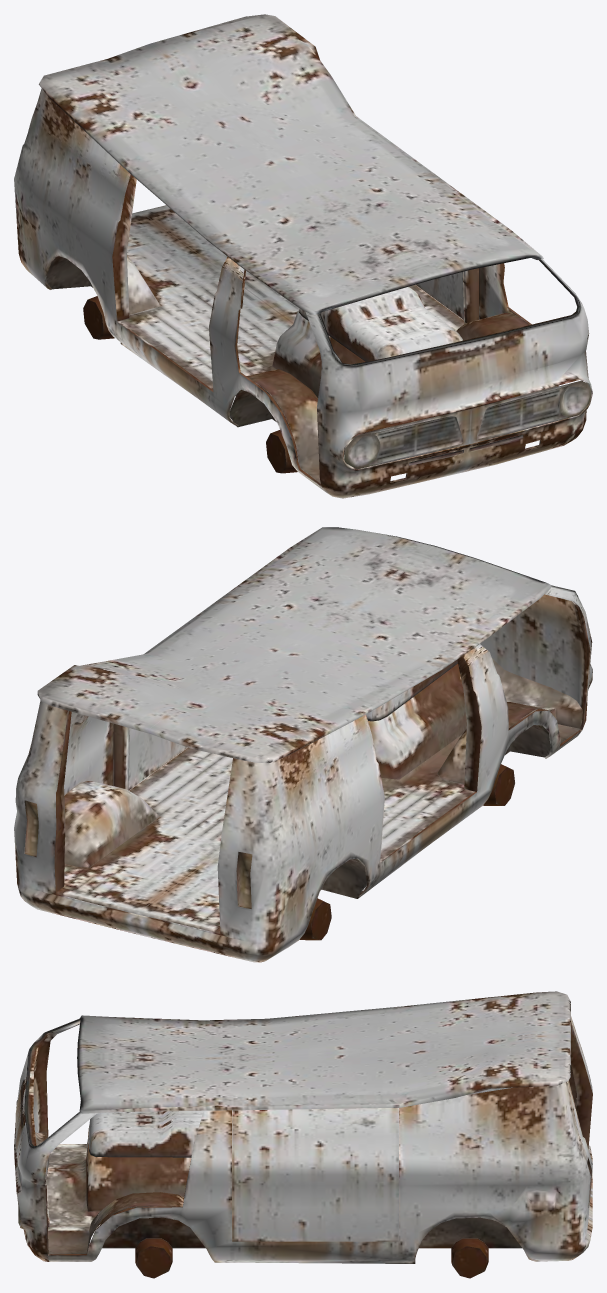
File: van_f_grey.glb
3 renders of one model, top to bottom at view 1: azimuth 30°, elevation 25°; view 2: azimuth 150°, elevation 25°; view 3: azimuth 270°, elevation 25°, orthographic. The views are drawn at different scales.
Parts seen in each view (by area): view 1: van_f_LOD0; view 2: van_f_LOD0; view 3: van_f_LOD0.
Boxes of the visible parts, x1,y1,x2,y2 form: van_f_LOD0: (14, 14, 592, 498); van_f_LOD0: (14, 527, 592, 962); van_f_LOD0: (14, 991, 592, 1278).
Size of the model in its own units: 2.23 by 1.81 by 4.75.
1 material, 1 textured.
